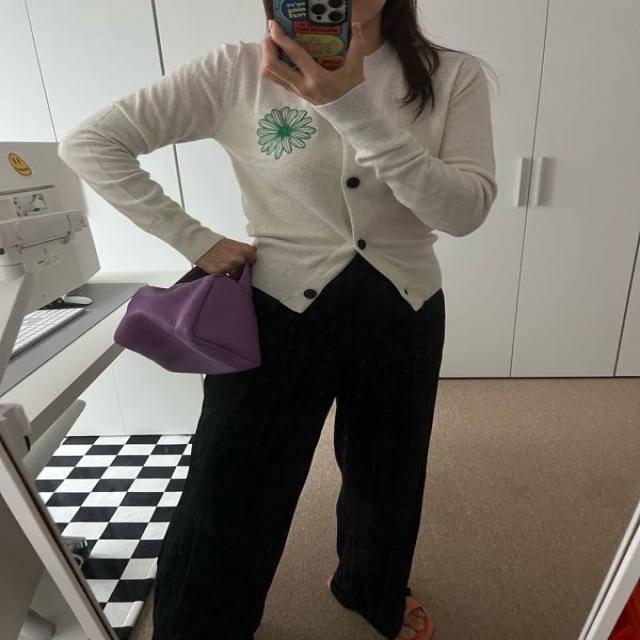cardigan: (56, 30, 496, 312)
slacks: (156, 231, 449, 640)
